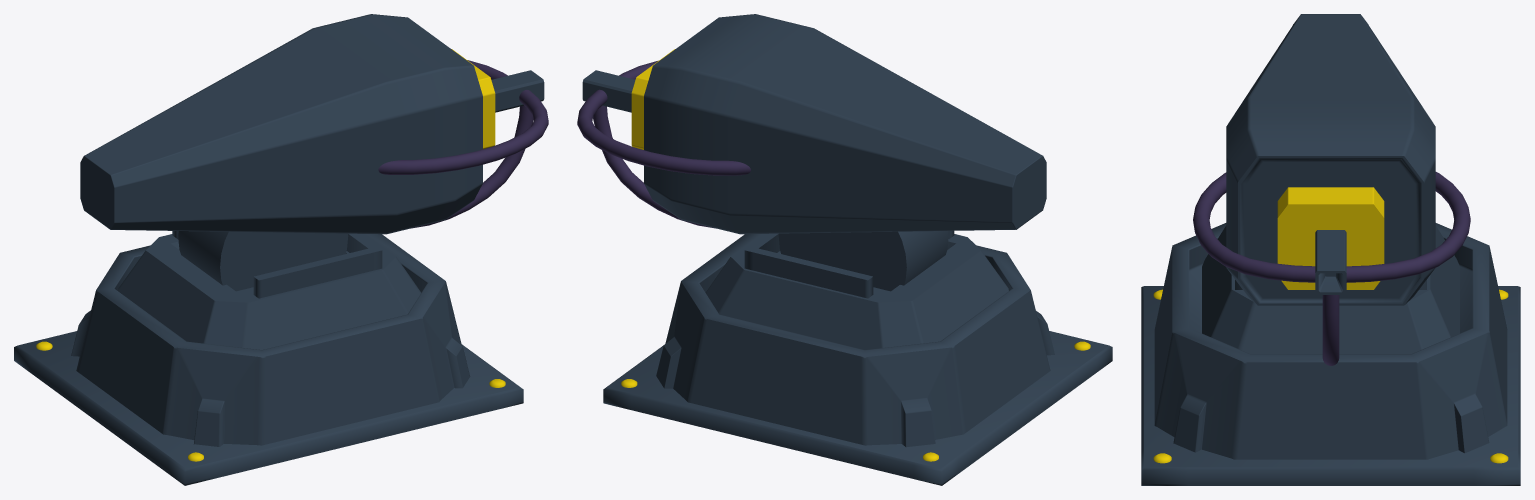
Rendered from Laser Beamer.fbx.
The picture shows the model from 3 angles, left to right: view 1: azimuth 30°, elevation 25°; view 2: azimuth 150°, elevation 25°; view 3: azimuth 270°, elevation 25°; orthographic projection. The views are drawn at different scales.
Parts seen in each view (by area): view 1: Stand, Turret; view 2: Stand, Turret; view 3: Stand, Turret.
Boxes of the visible parts, bbox=[...] form: Stand: bbox=[14, 231, 523, 485]; Turret: bbox=[80, 14, 548, 291]; Stand: bbox=[603, 231, 1112, 485]; Turret: bbox=[577, 14, 1046, 291]; Stand: bbox=[1141, 223, 1520, 485]; Turret: bbox=[1193, 14, 1470, 365].
Size of the model in its own units: 532 by 355 by 357.
